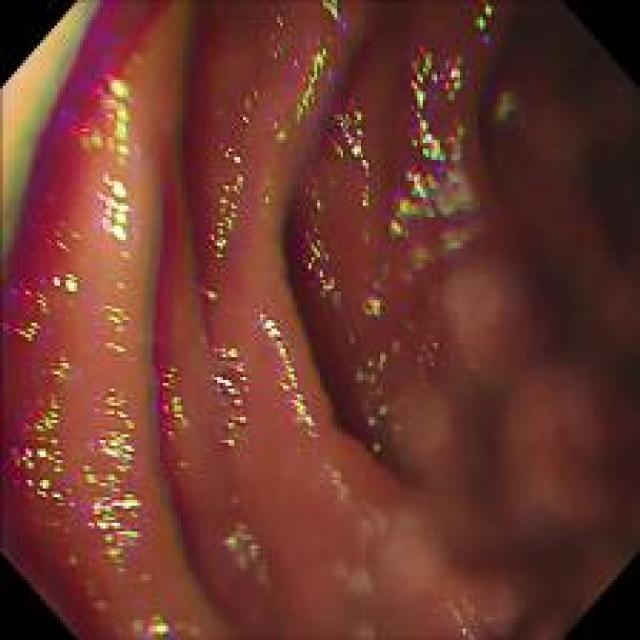blur: (359, 10, 634, 631)
color misalignment: (6, 1, 165, 631), (271, 19, 400, 435), (394, 36, 475, 270), (16, 359, 88, 556), (89, 395, 141, 596), (70, 49, 136, 158), (210, 500, 281, 592), (205, 320, 255, 446), (326, 95, 376, 212), (210, 119, 250, 258), (22, 264, 84, 351), (95, 151, 146, 255), (155, 360, 198, 459), (285, 35, 336, 118), (298, 224, 341, 315), (92, 270, 129, 366), (355, 341, 394, 424), (405, 306, 442, 381), (354, 254, 385, 332), (321, 450, 352, 511), (290, 155, 322, 209)
contrast: (486, 10, 626, 625)
specularity: (99, 175, 126, 241), (110, 499, 140, 508), (265, 321, 279, 339), (65, 271, 76, 291), (215, 375, 232, 386), (51, 274, 60, 286)
